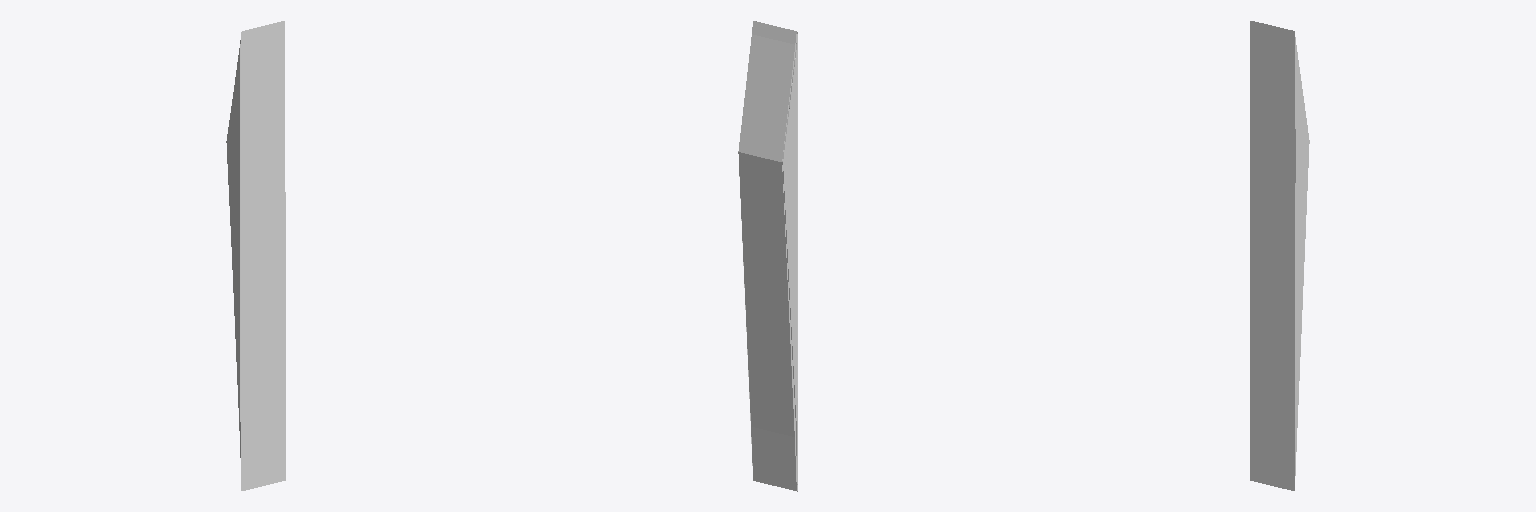
URDF robot description (ground_test):
<?xml version="0.0" ?>
<robot name="ground_test">
  <link name="grpundLink">
  <contact>
      <lateral_friction value="1"/>
  </contact>
    <inertial>
      <origin rpy="0 0 0" xyz="0 0 0"/>
       <mass value=".0"/>
       <inertia ixx="0" ixy="0" ixz="0" iyy="0" iyz="0" izz="0"/>
    </inertial>
    <visual>
      <origin rpy="0 0 0" xyz="0 0 0"/>
      <geometry>
				<mesh filename="simple_ground.obj" scale="1 1 1"/>
      </geometry>
       <material name="white">
        <color rgba="1 1 1 1"/>
      </material>
    </visual>
    <collision>
      <origin rpy="0 0 0" xyz="0 0 0"/>
      <geometry>
	 	<mesh filename="simple_ground_vhacd.obj" scale="1 1 1"/>
      </geometry>
    </collision>
  </link>
</robot>

--- Render facts (derived) ---
3 views of the same robot in one strip: view 1: azimuth 30°, elevation 25°; view 2: azimuth 150°, elevation 25°; view 3: azimuth 330°, elevation 25° (orthographic).
Robot: ground_test — 1 links, 0 joints (none); root link grpundLink; default pose: every joint at zero.
Links seen in each view (by area): view 1: grpundLink; view 2: grpundLink; view 3: grpundLink.
Boxes of the visible links, bbox=[...] form: grpundLink: bbox=[226, 21, 285, 490]; grpundLink: bbox=[738, 21, 797, 491]; grpundLink: bbox=[1250, 21, 1309, 490].
Bounding box of the posed robot: 2.04 × 1.18 × 20.14 m (x, y, z).
Meshes: 1 distinct files referenced, 1 mesh visuals loaded (1 OBJ).